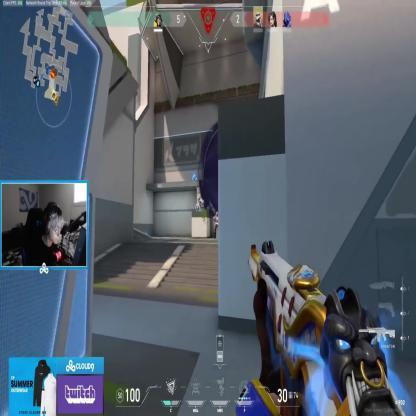enemy: (212, 210, 221, 238)
enemy_head: (216, 210, 219, 216)
